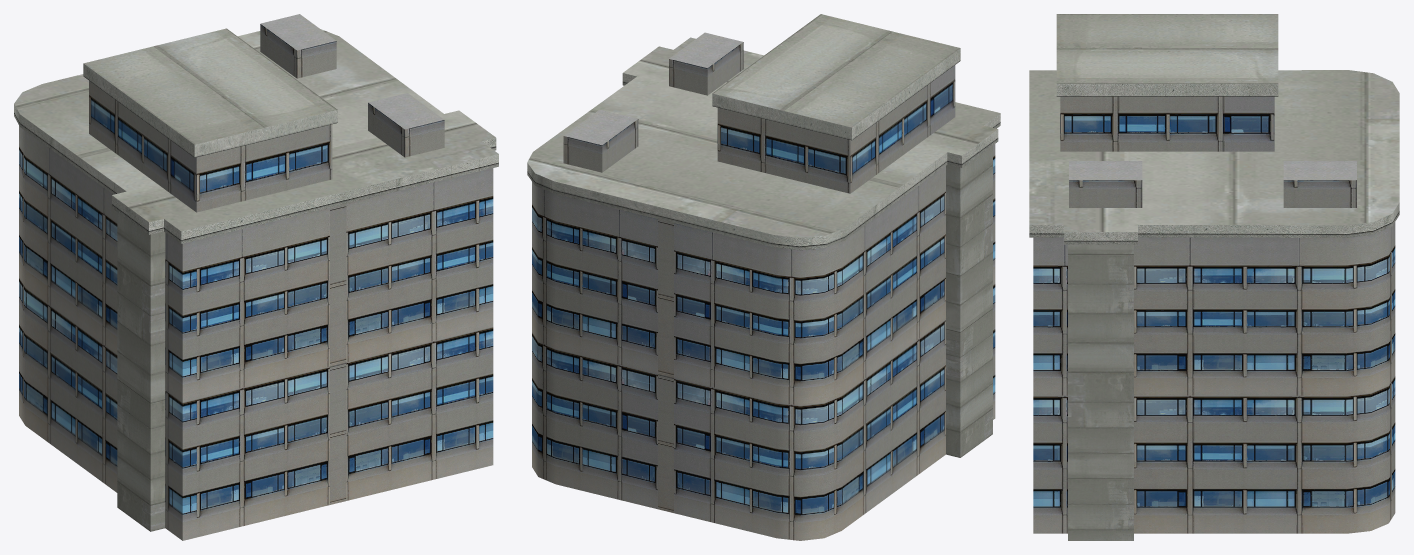
File: skytower2.FBX
3 views of the same model, side by side, from view 1: azimuth 30°, elevation 25°; view 2: azimuth 150°, elevation 25°; view 3: azimuth 270°, elevation 25° (orthographic). The views are drawn at different scales.
Parts seen in each view (by area): view 1: polySurface60; view 2: polySurface60; view 3: polySurface60.
Part boxes in pixels (box(x1,y1,x2,y2)): polySurface60: box(14, 14, 498, 540); polySurface60: box(527, 14, 1000, 540); polySurface60: box(1029, 14, 1399, 540).
Size of the model in its own units: 12.92 by 13.58 by 11.98.
